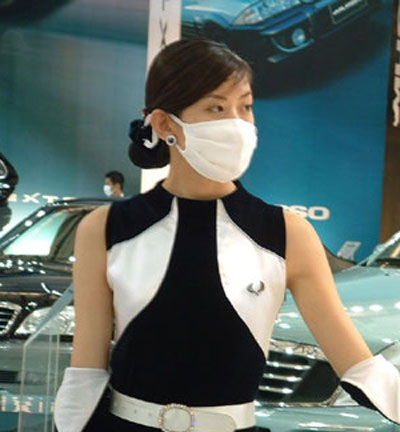face_mask: (174, 68, 254, 184)
